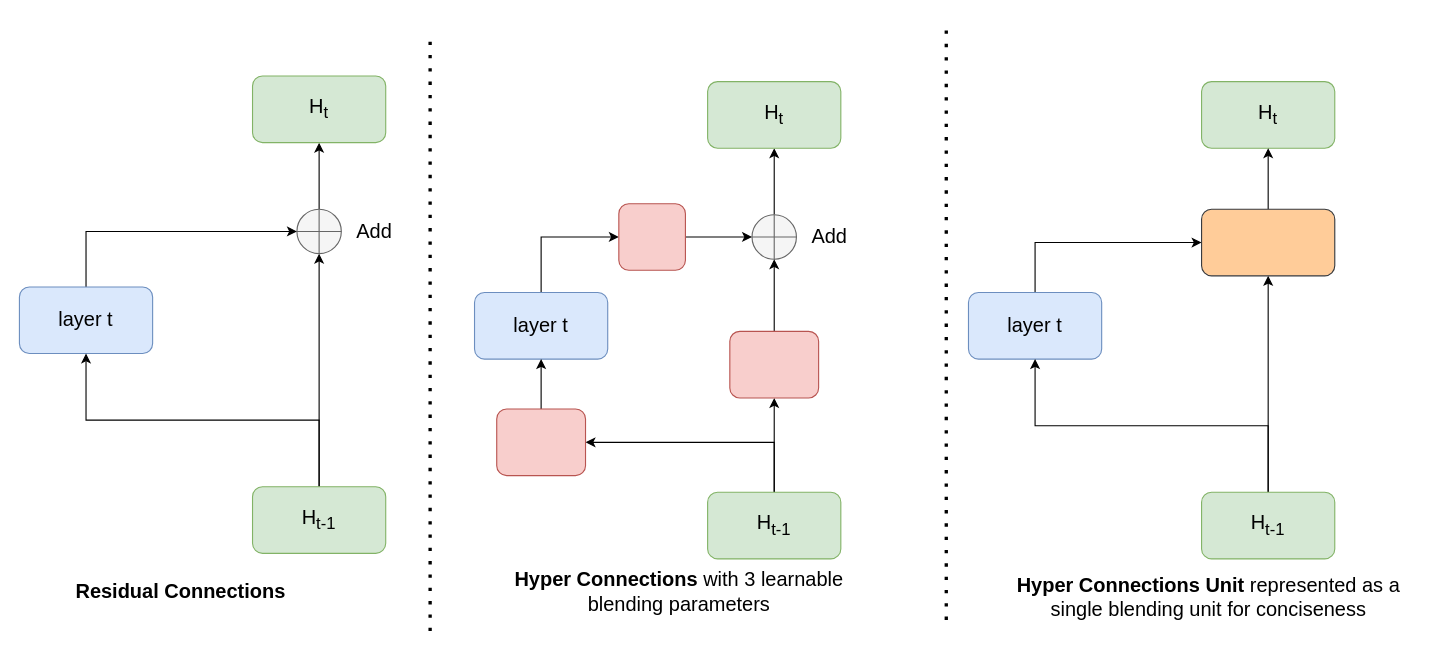
The diagram is 1432 pixels wide and 653 high, and some of its shapes have lost their labels. The shapes that lost their labels are listed below. From the top down, each one's centre as x and y in pixels, then its label:
At [651,236]: "beta 1".
At [1267,242]: "HC t".
At [774,364]: "alpha 1, 1".
At [541,442]: "alpha 1, 0".
